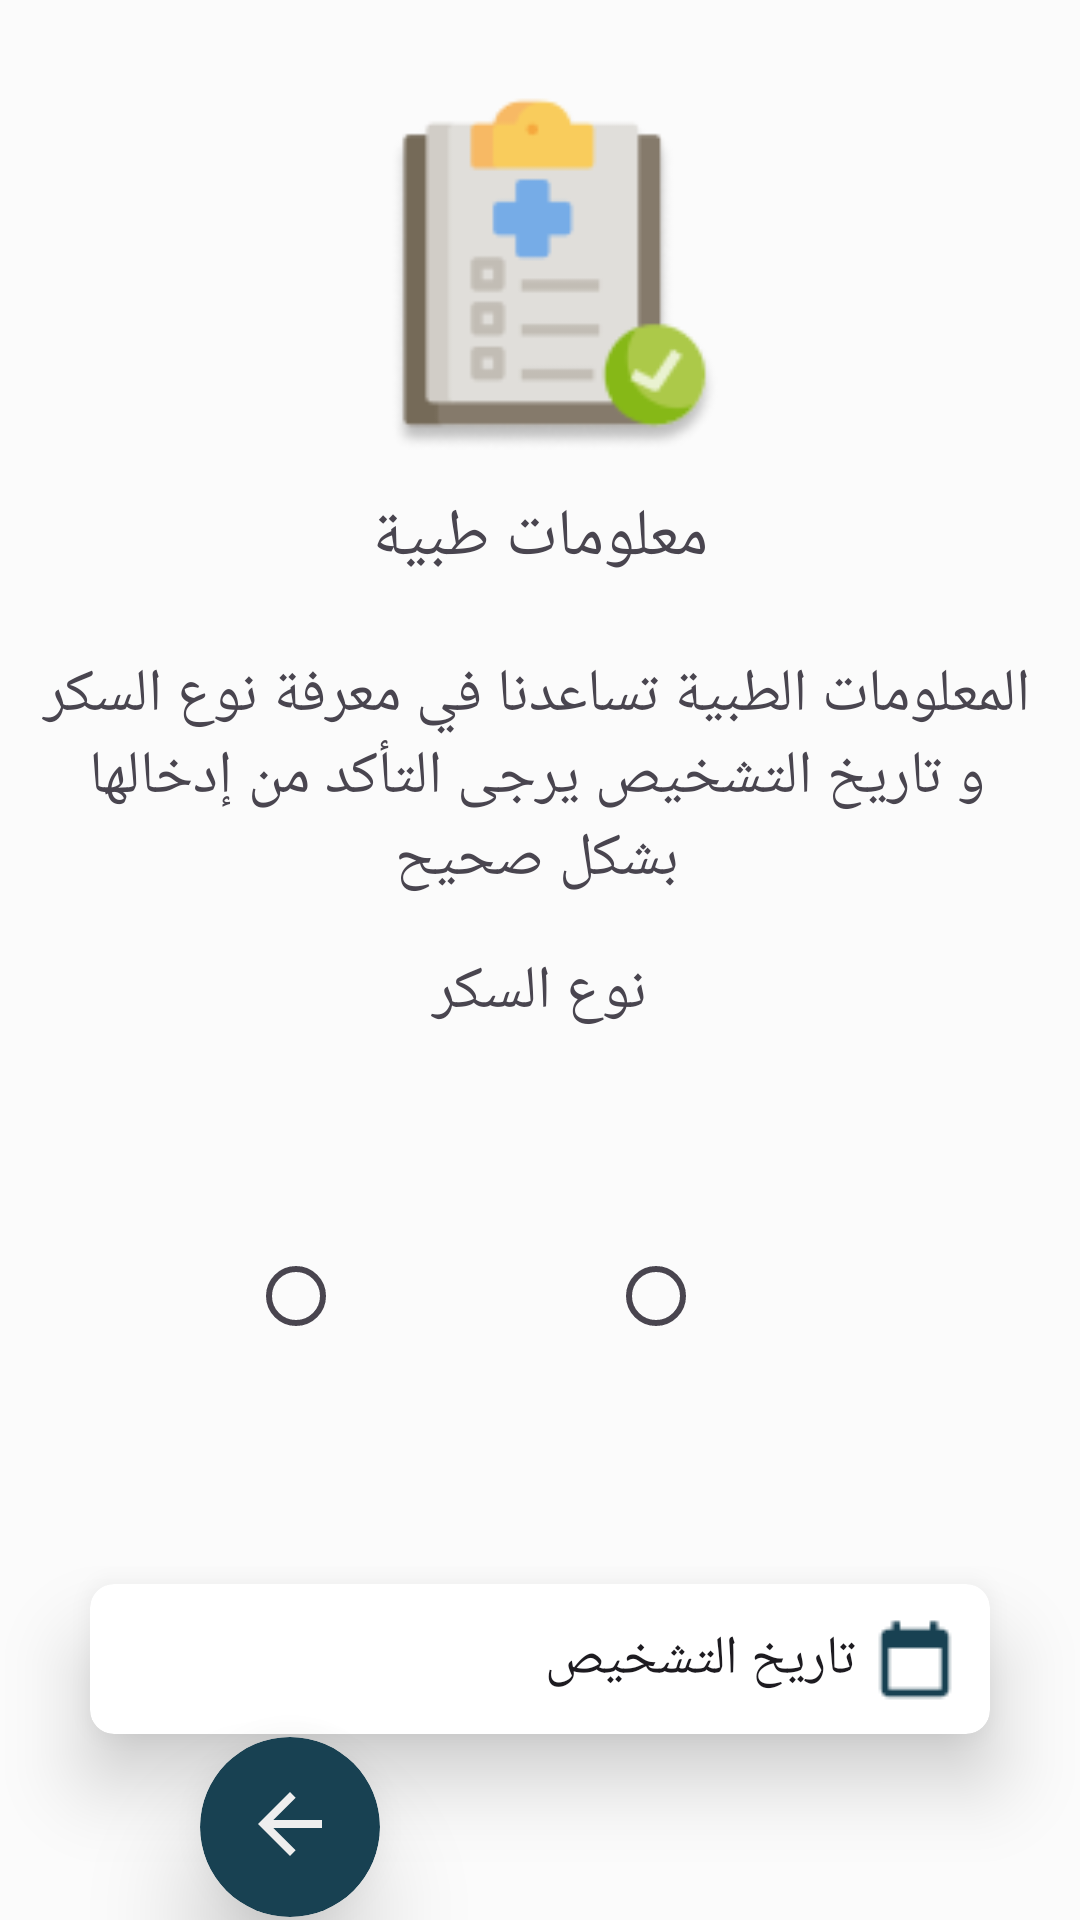

Icons on this 1080*1920 Android screen, each with its box as {"x1": x1, "y1": y1, "x2": x2, "y2": y2}:
arrow back: {"x1": 200, "y1": 1746, "x2": 380, "y2": 1902}
